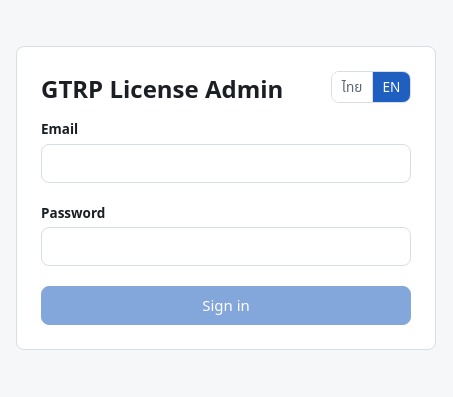
Test: login › shows a safe error for invalid credentials
Type "x@y.co" into the field labelled "Email" at (226, 163), box [41,144,411,183]
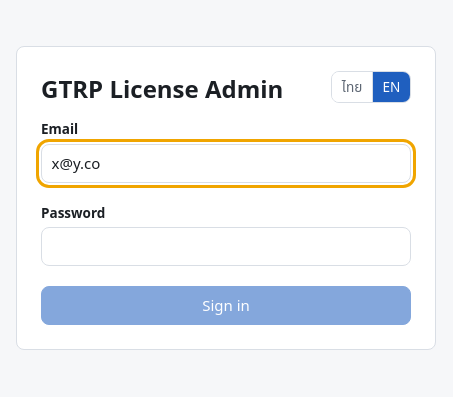
Type "nope" into the password field labelled "Password" at (226, 246), box [41,227,411,266]
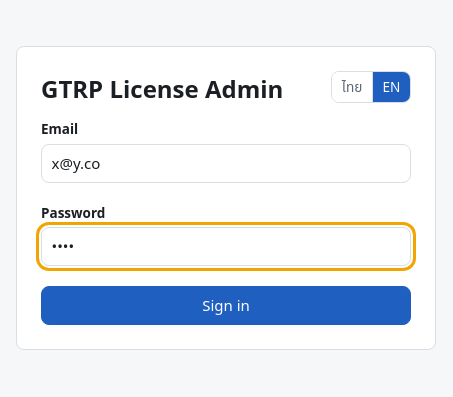
Click the button "Sign in" at (226, 305), box [41,286,411,325]
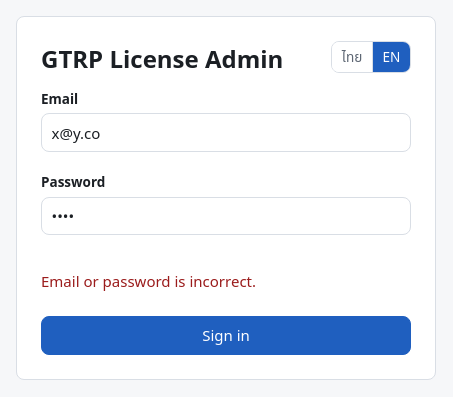
Result: the message reads "Email or password is incorrect." at [41,271,256,291]
